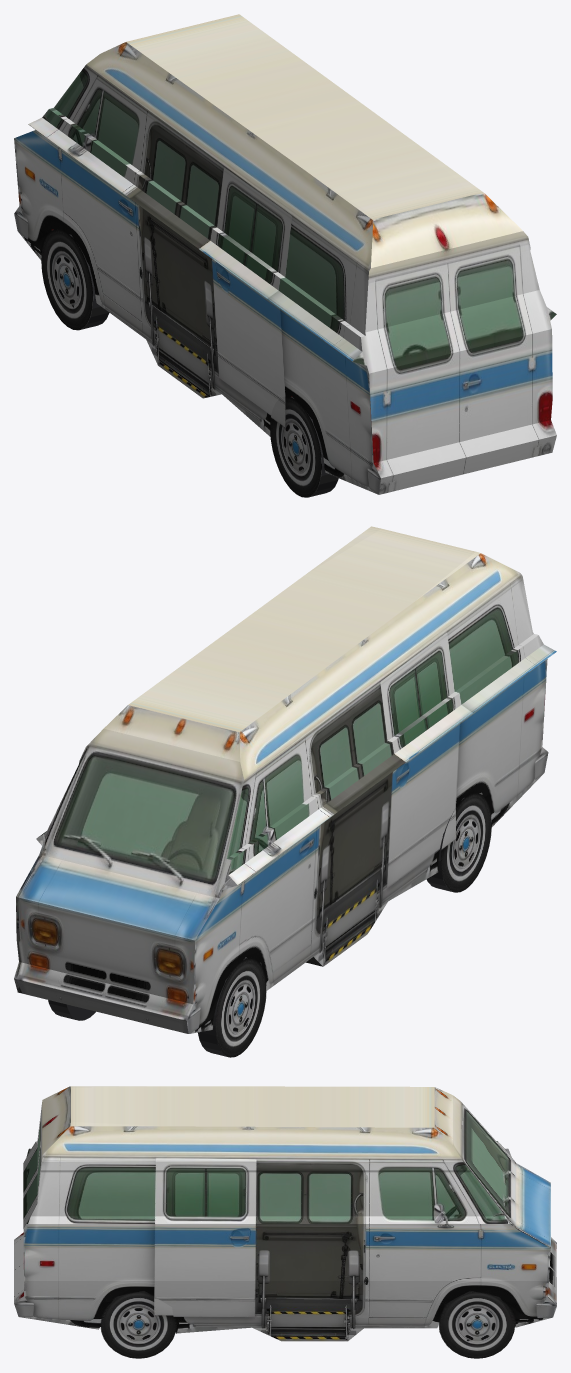
File: paratransit_van.glb
The picture shows the model from 3 angles, top to bottom: view 1: azimuth 30°, elevation 25°; view 2: azimuth 150°, elevation 25°; view 3: azimuth 270°, elevation 25°; orthographic projection. The views are drawn at different scales.
Visible parts, largest first — view 1: paratransit_van, wheel_FL, wheel_BL; view 2: paratransit_van, wheel_FL, wheel_BL; view 3: paratransit_van, wheel_FR, wheel_BR.
Part boxes in pixels (x1=…): paratransit_van: x1=14, y1=14, x2=556, y2=494; wheel_FL: x1=41, y1=229, x2=109, y2=330; wheel_BL: x1=270, y1=396, x2=338, y2=497; paratransit_van: x1=14, y1=526, x2=556, y2=1033; wheel_FL: x1=198, y1=957, x2=266, y2=1057; wheel_BL: x1=426, y1=793, x2=491, y2=892; paratransit_van: x1=14, y1=1086, x2=556, y2=1341; wheel_FR: x1=438, y1=1290, x2=514, y2=1358; wheel_BR: x1=100, y1=1291, x2=175, y2=1358.
Size of the model in its own units: 1.92 by 2.71 by 5.99.
3 materials, 1 textured.
